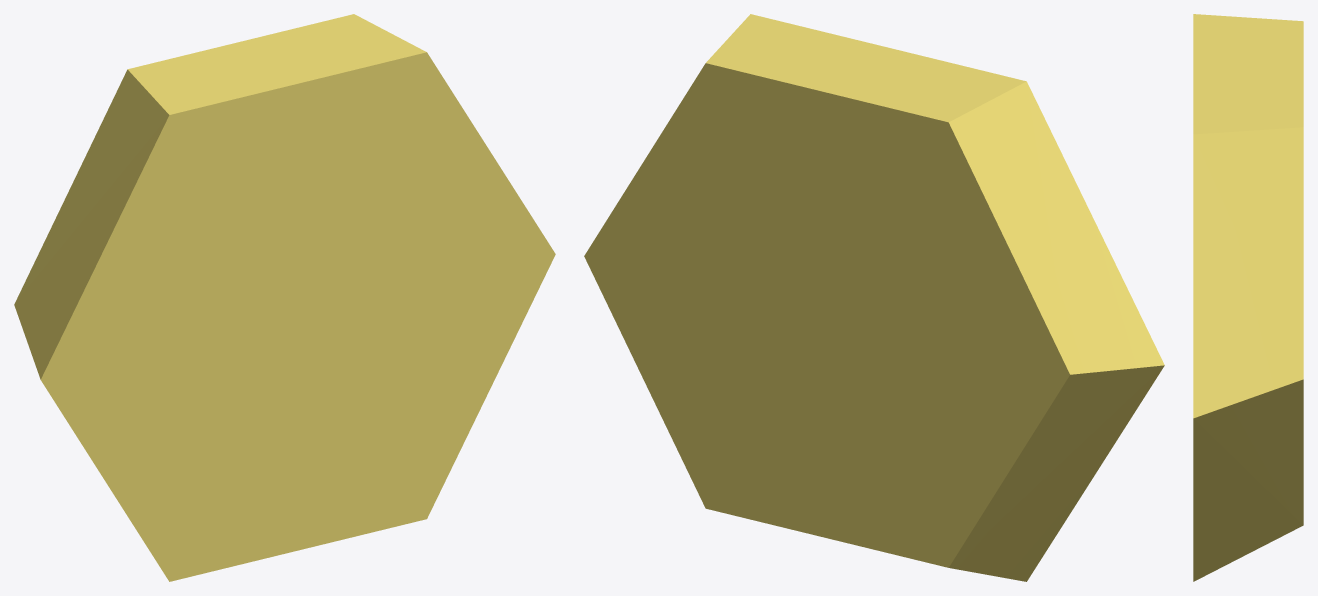
Rendered from bananaSlice.obj.
3 renders of one model, left to right at view 1: azimuth 30°, elevation 25°; view 2: azimuth 150°, elevation 25°; view 3: azimuth 270°, elevation 25°, orthographic. The views are drawn at different scales.
Parts seen in each view (by area): view 1: banana; view 2: banana; view 3: banana.
Part boxes in pixels (x1,y1,x2,y2): banana: (14, 14, 555, 581); banana: (584, 14, 1164, 581); banana: (1193, 14, 1303, 581).
Size of the model in its own units: 0.1376 by 0.1192 by 0.0266.
